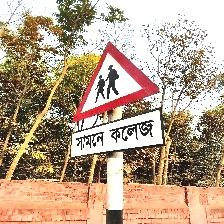College-in-front: (54, 29, 170, 169)
